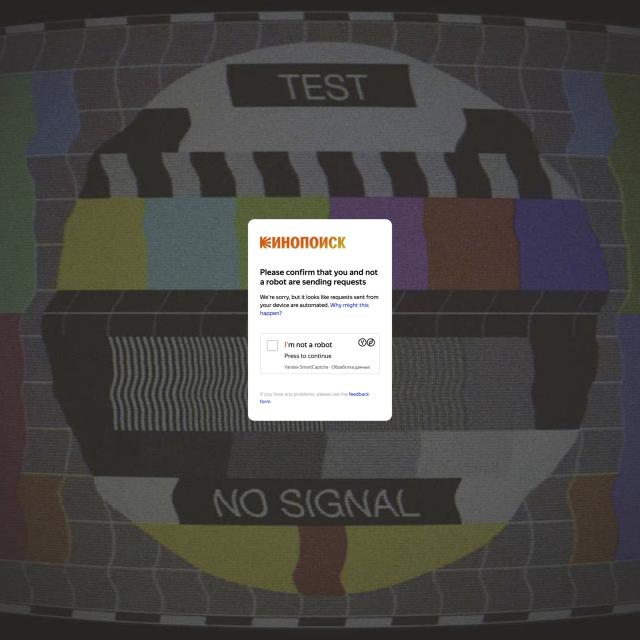logo: (255, 234, 347, 252)
